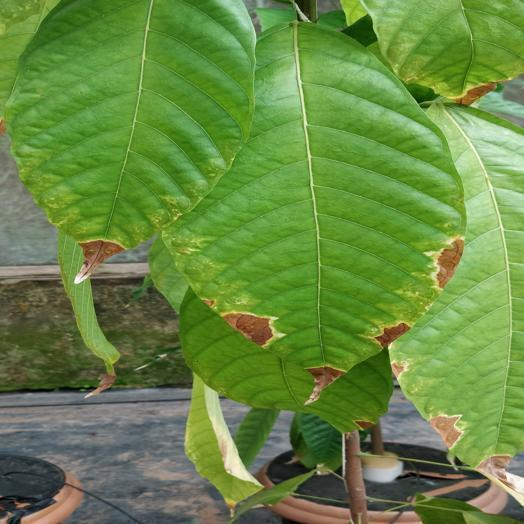Potassium: (168, 22, 465, 401), (8, 0, 253, 283), (390, 105, 523, 503)
